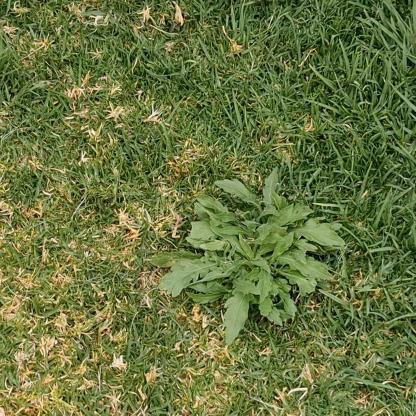Weeds: (150, 168, 345, 347)
